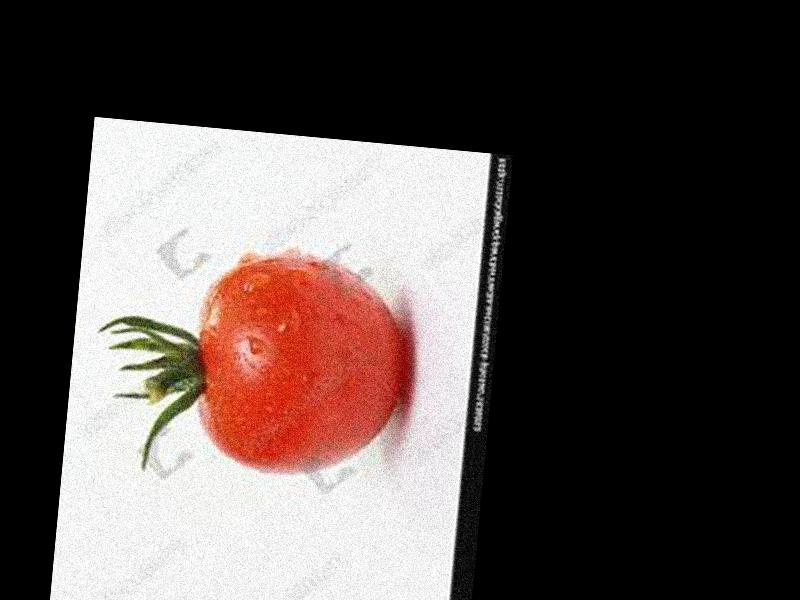Tomato: (188, 251, 415, 484)
